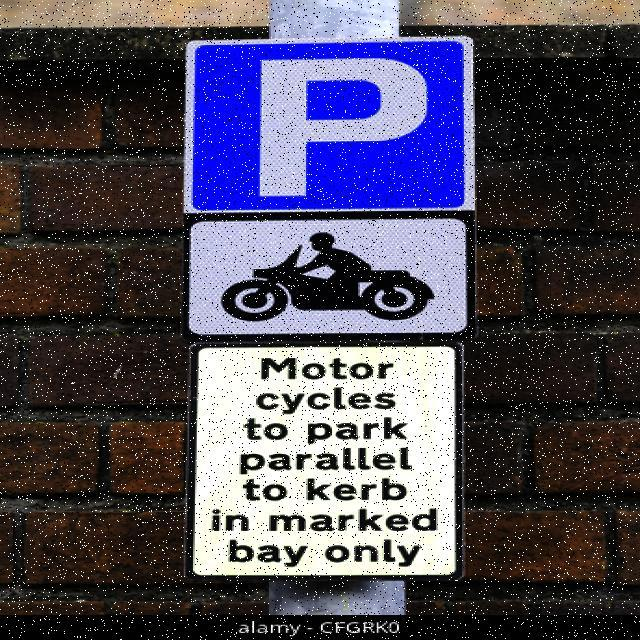Traffic sign: (168, 32, 482, 586)
